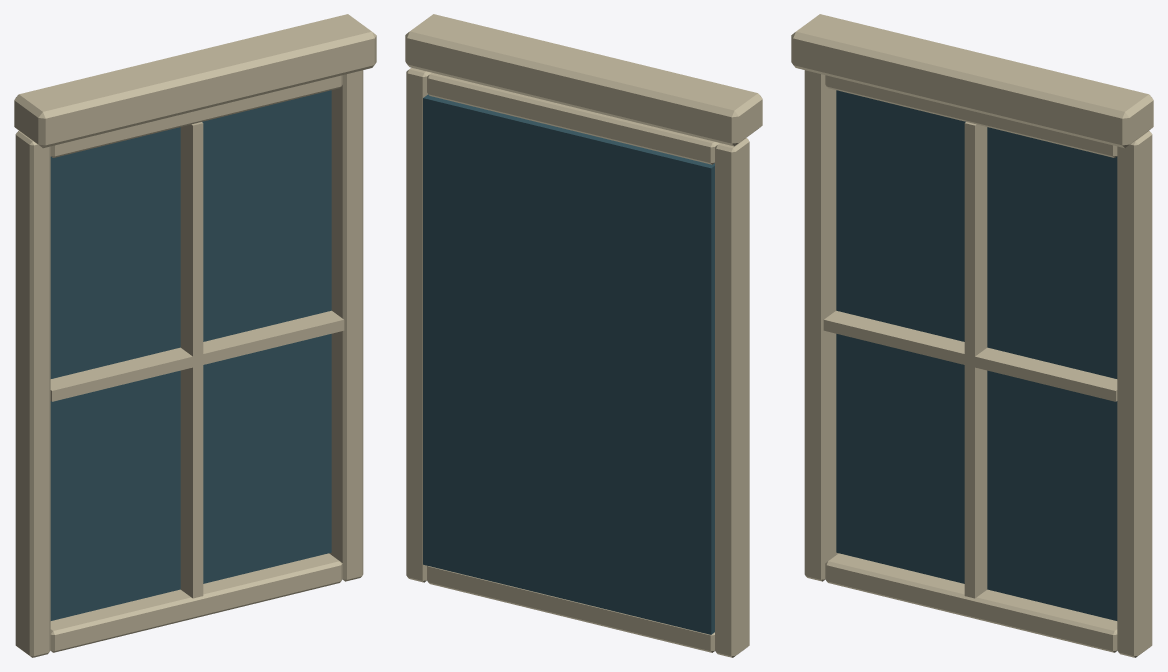
Rendered from window_34.glb.
3 views of the same model, side by side, from view 1: azimuth 30°, elevation 25°; view 2: azimuth 150°, elevation 25°; view 3: azimuth 330°, elevation 25° (orthographic).
Visible parts, largest first — view 1: window_34; view 2: window_34; view 3: window_34.
Boxes of the visible parts, x1,y1,x2,y2 form: window_34: [14, 14, 376, 657]; window_34: [405, 14, 762, 657]; window_34: [791, 14, 1153, 657].
Size of the model in its own units: 1.46 by 2.28 by 0.2375.
